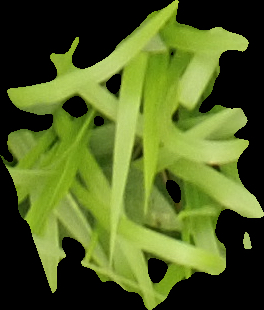grass: (2, 1, 262, 308)
